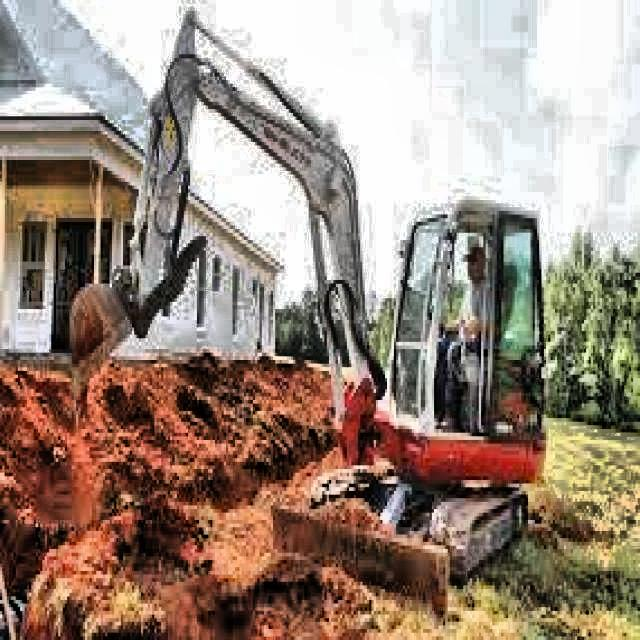bull_dozer/loader/grader: (68, 3, 558, 625)
person: (429, 230, 514, 440)
